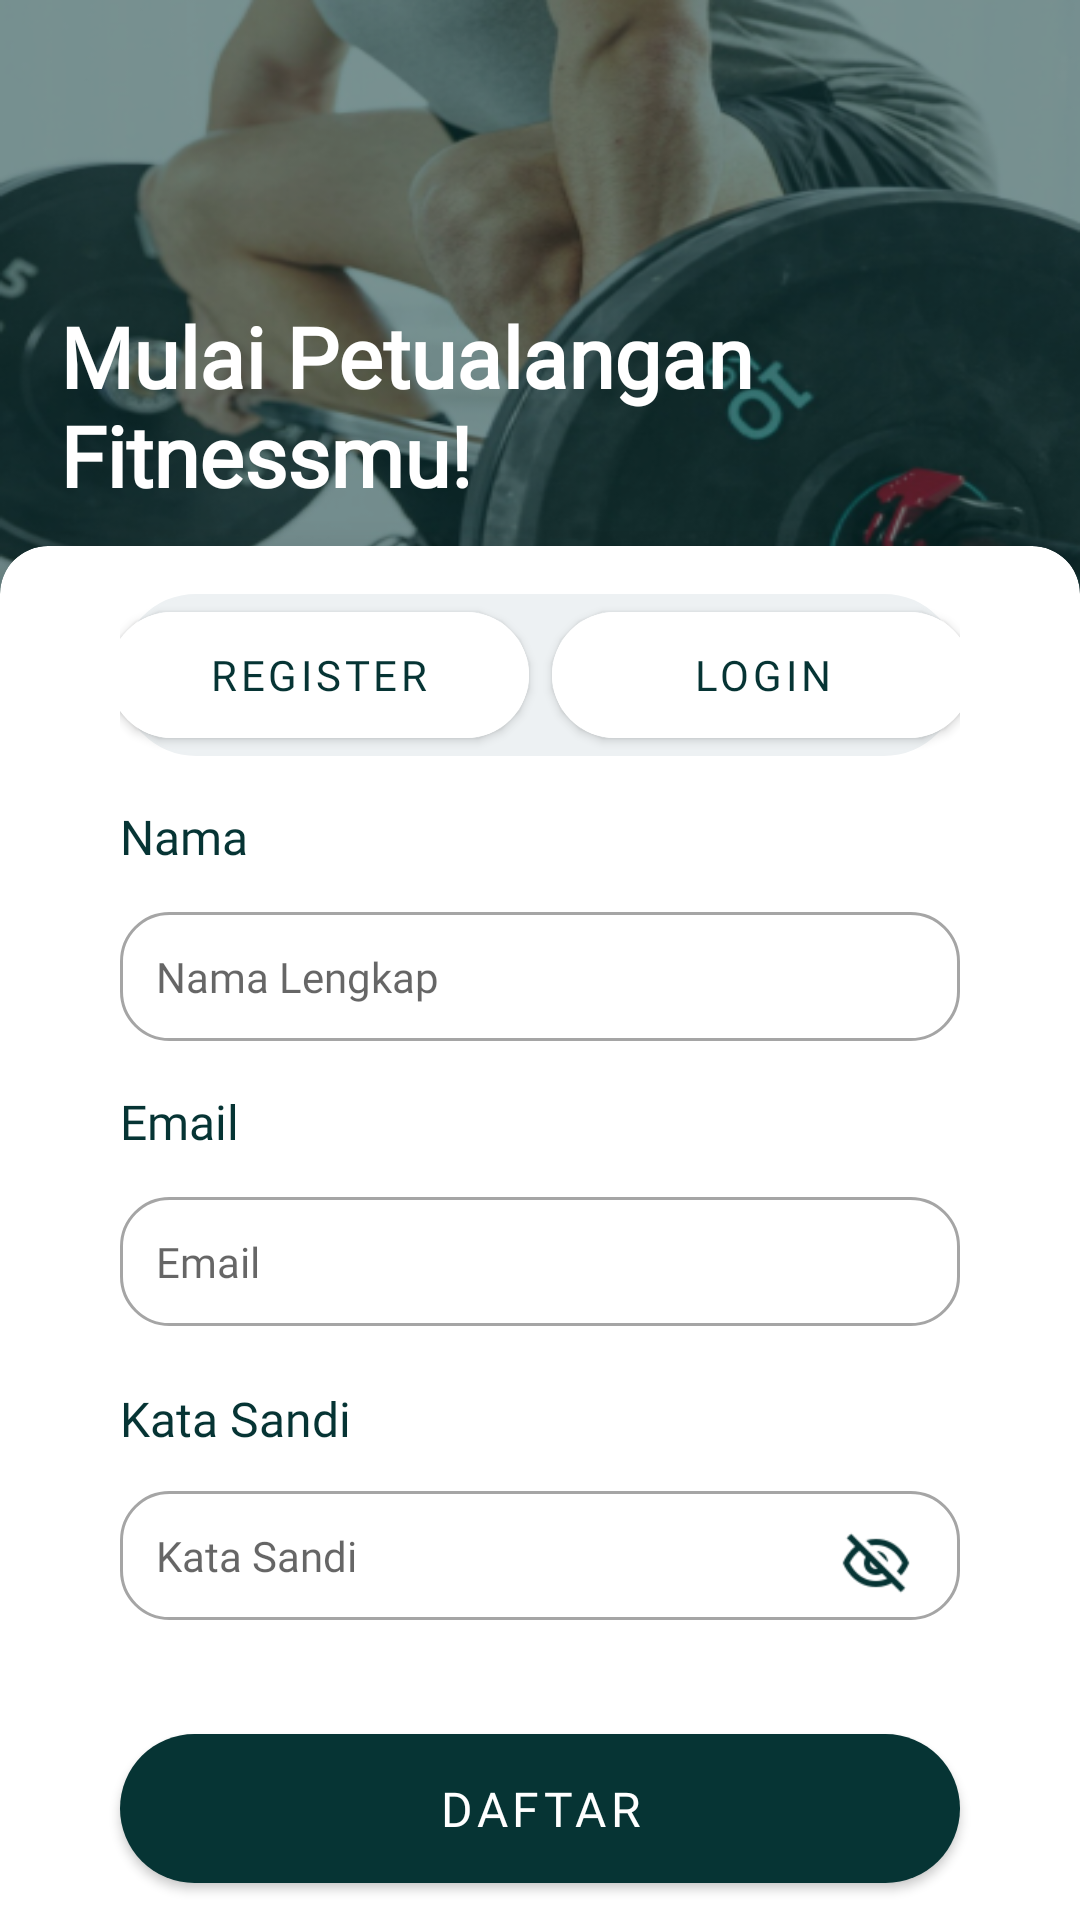

Screen size 1080 x 1920. Icon name, then its box in pixels as detection(x1, y1, x2, y2):
visibility: detection(842, 1533, 910, 1593)
